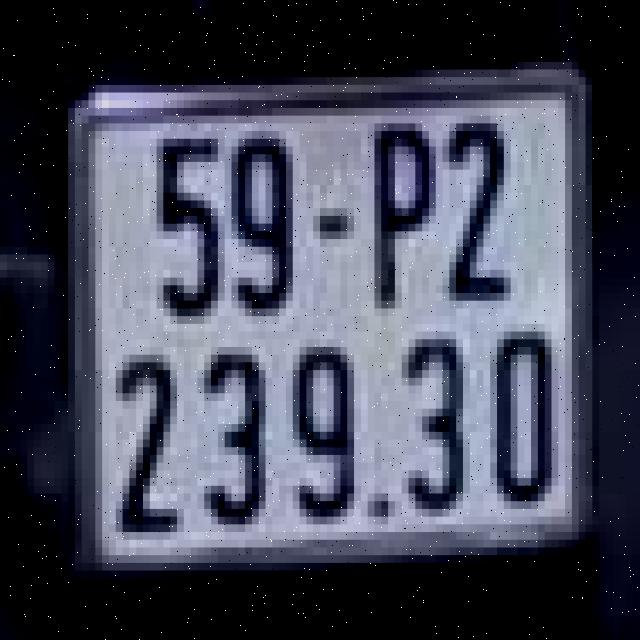0: (487, 320, 568, 513)
2: (439, 112, 528, 312), (102, 343, 191, 536)
3: (398, 332, 480, 532), (198, 335, 272, 536)
5: (140, 123, 228, 324)
9: (225, 120, 306, 336), (290, 340, 364, 524)
P: (361, 116, 442, 316)
